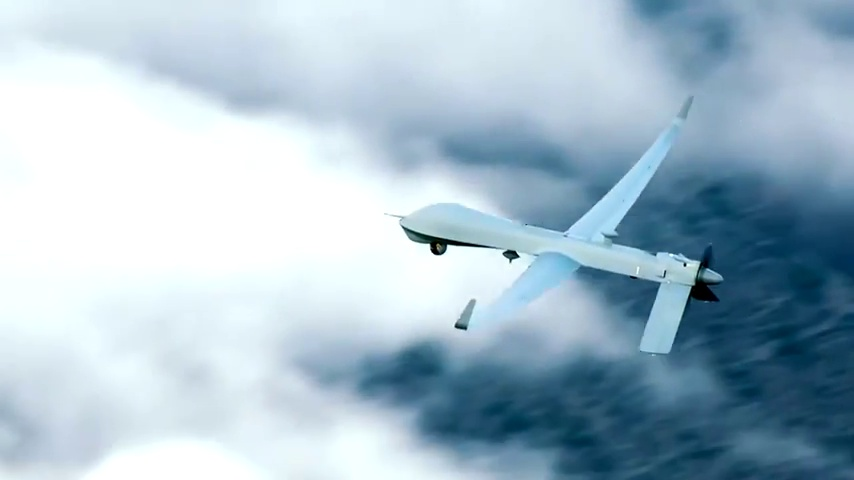military drone: (383, 94, 724, 354)
